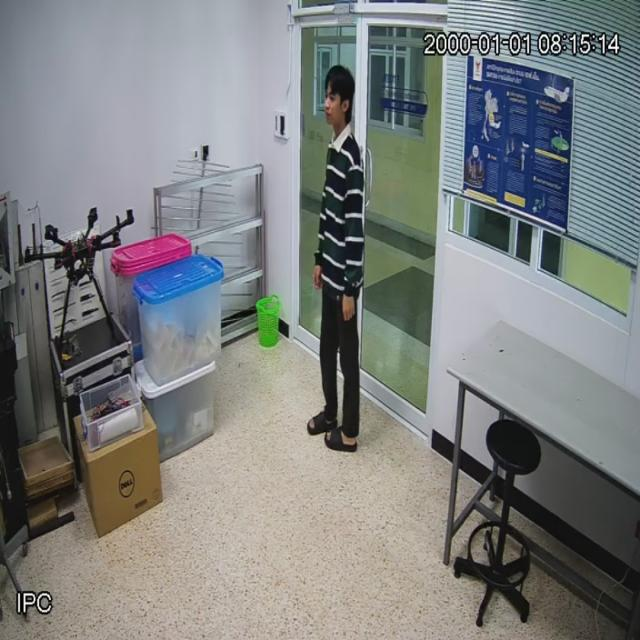normal: (308, 51, 381, 457)
